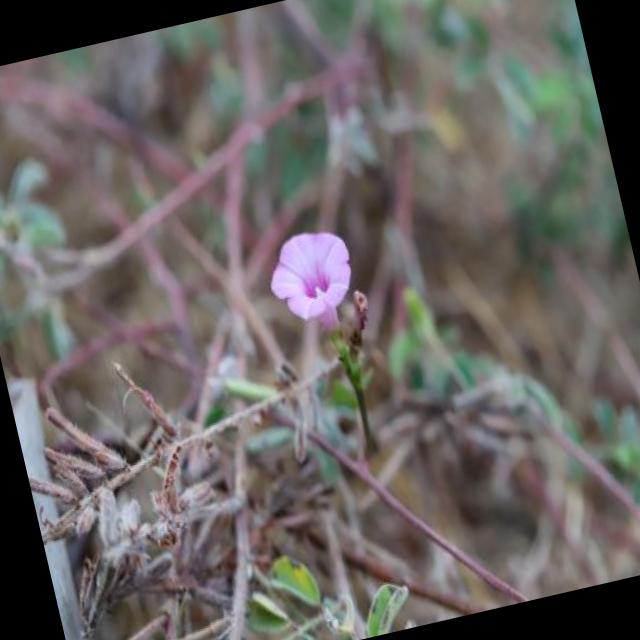ipomoea: (256, 217, 370, 346)
